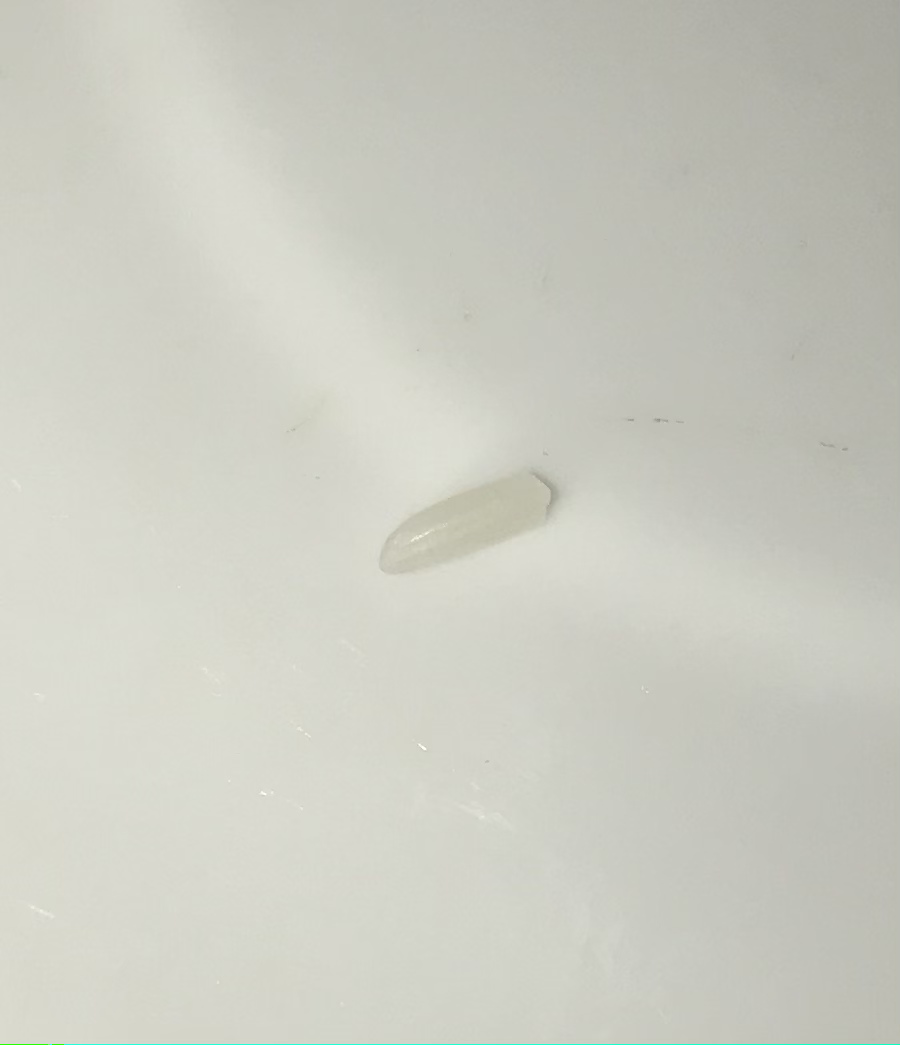Gao Ngoc Troi: (378, 468, 565, 583)
